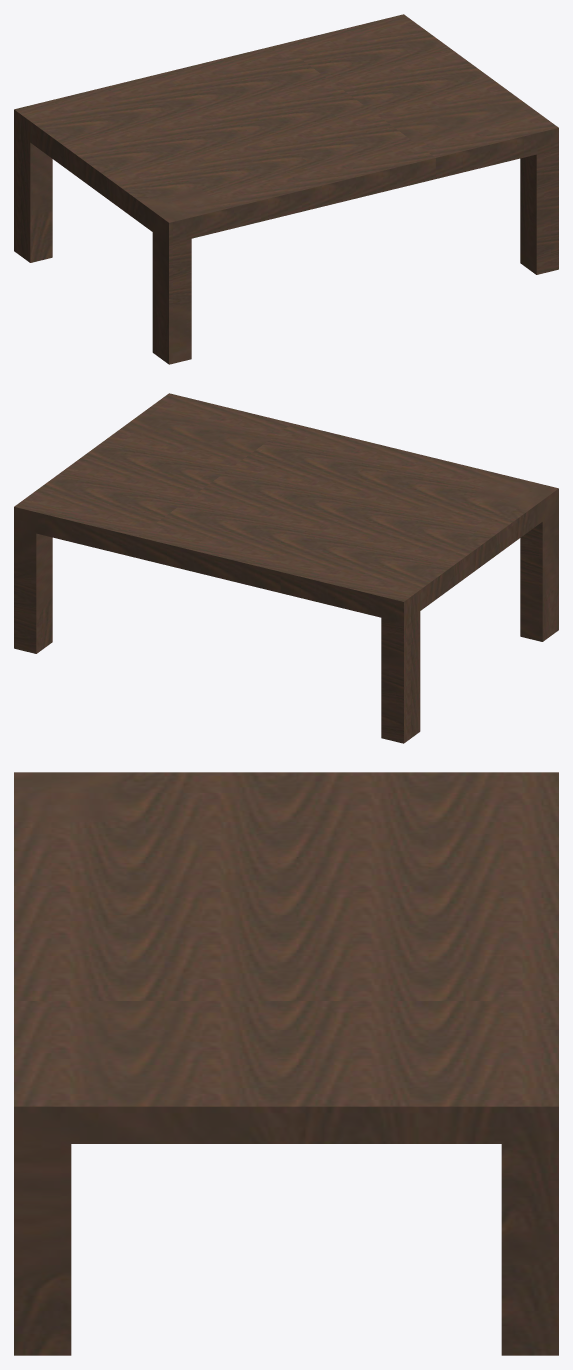
File: table.fbx
The picture shows the model from 3 angles, top to bottom: view 1: azimuth 30°, elevation 25°; view 2: azimuth 150°, elevation 25°; view 3: azimuth 270°, elevation 25°; orthographic projection. The views are drawn at different scales.
Parts seen in each view (by area): view 1: Cube; view 2: Cube; view 3: Cube.
Boxes of the visible parts, box(x1,y1,x2,y2) form: Cube: box(14, 14, 558, 364); Cube: box(14, 393, 558, 743); Cube: box(14, 772, 558, 1355).
Size of the model in its own units: 11.51 by 4 by 7.93.
1 material, 1 textured.
